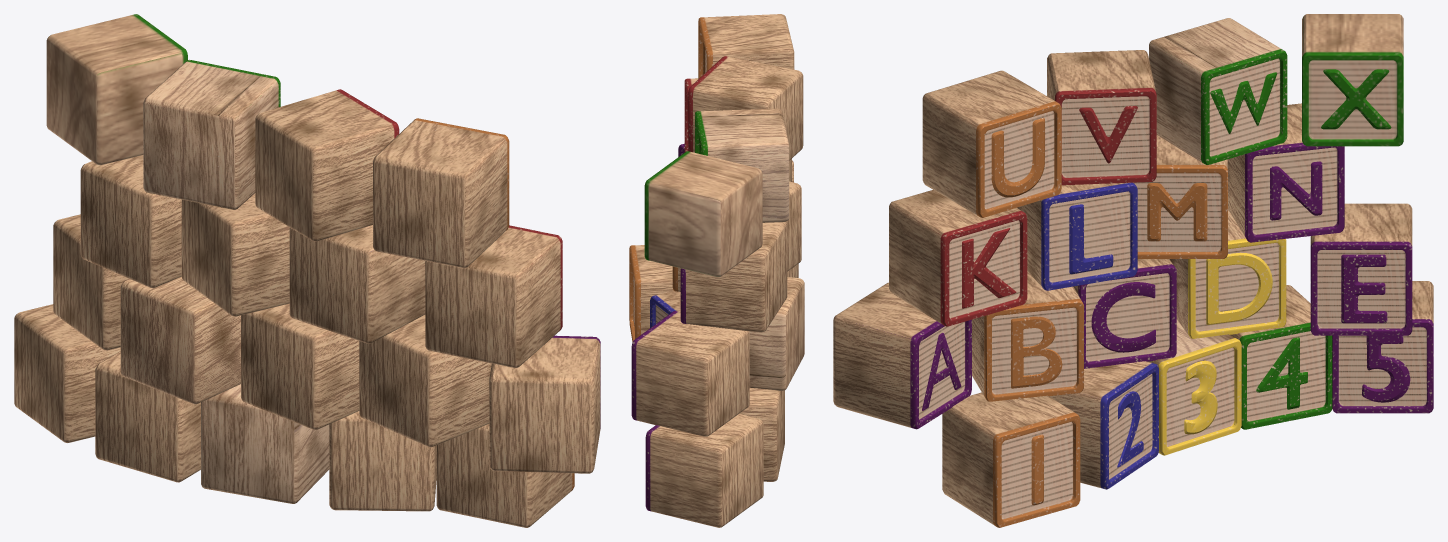
Rendered from toyBlocksHalf1.obj.
The picture shows the model from 3 angles, left to right: view 1: azimuth 30°, elevation 25°; view 2: azimuth 150°, elevation 25°; view 3: azimuth 270°, elevation 25°; orthographic projection. The views are drawn at different scales.
Visible parts, largest first — view 1: 1; view 2: 1; view 3: 1.
Part boxes in pixels (bbox=[...]): 1: bbox=[14, 14, 600, 527]; 1: bbox=[629, 14, 804, 527]; 1: bbox=[833, 14, 1433, 527].
Bounding box in the file's own units: 20.57 × 22.24 × 32.95.
Materials: 18 (18 with a texture image).
